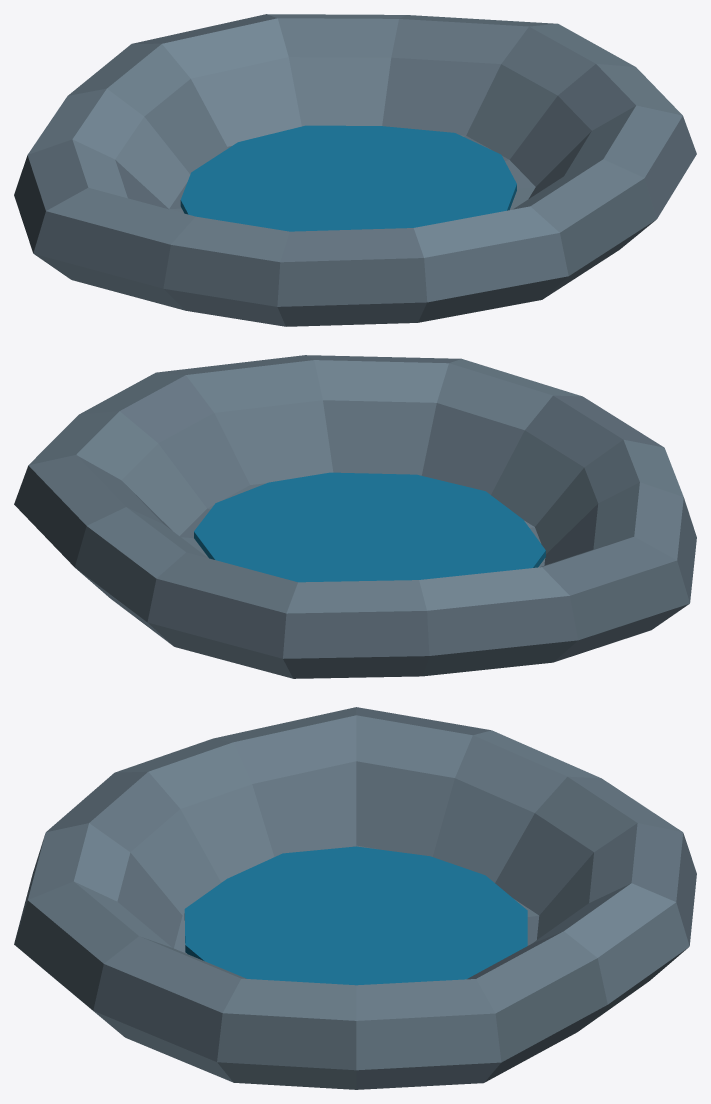
Rendered from EM_TidePool.fbx.
The picture shows the model from 3 angles, top to bottom: view 1: azimuth 30°, elevation 25°; view 2: azimuth 150°, elevation 25°; view 3: azimuth 270°, elevation 25°; orthographic projection. The views are drawn at different scales.
Visible parts, largest first — view 1: EM_TidePool; view 2: EM_TidePool; view 3: EM_TidePool.
Boxes of the visible parts, x1=… form: EM_TidePool: x1=14, y1=14, x2=696, y2=326; EM_TidePool: x1=14, y1=355, x2=696, y2=678; EM_TidePool: x1=14, y1=707, x2=696, y2=1089.
Size of the model in its own units: 3.43 by 0.535 by 3.03.
